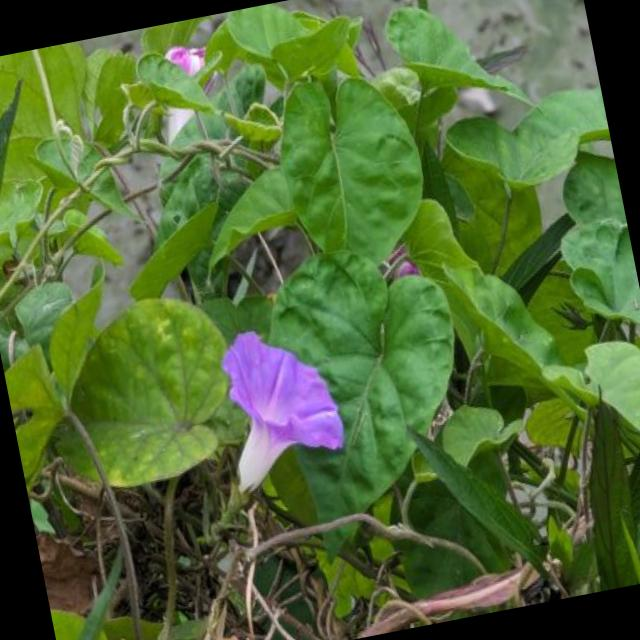ipomoea: (204, 312, 356, 502)
